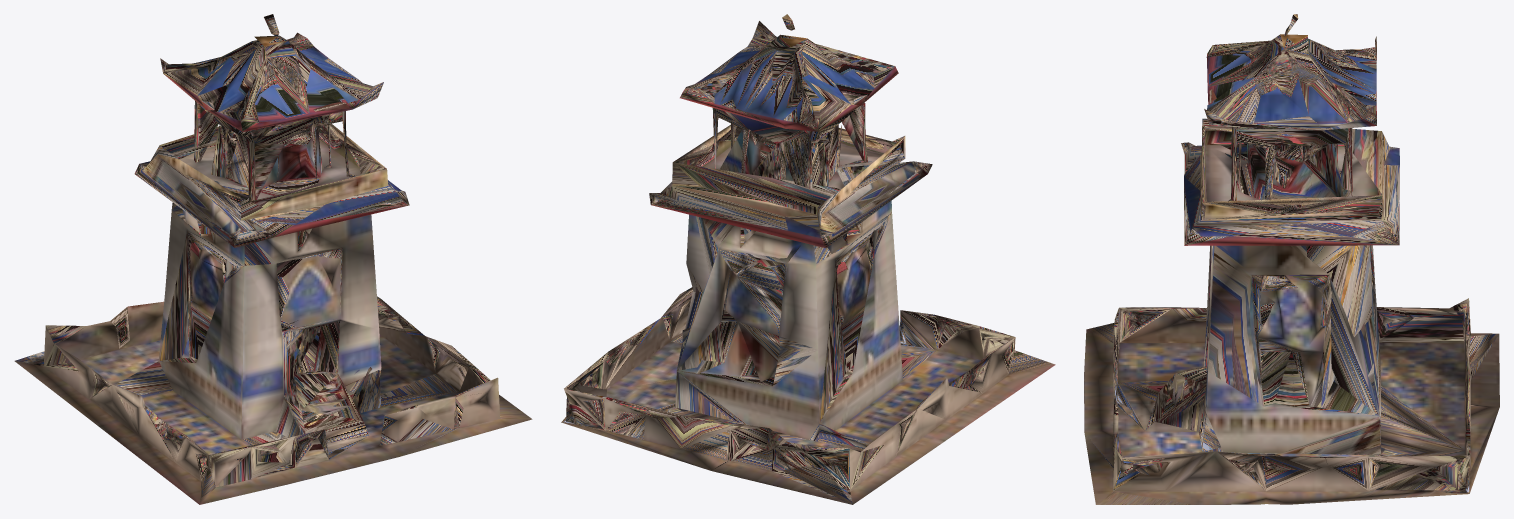
File: bq_sword_tower.far.glb
The picture shows the model from 3 angles, left to right: view 1: azimuth 30°, elevation 25°; view 2: azimuth 150°, elevation 25°; view 3: azimuth 270°, elevation 25°; orthographic projection. The views are drawn at different scales.
Size of the model in its own units: 1.73 by 1.86 by 1.73.
Materials: 1 (1 with a texture image).
